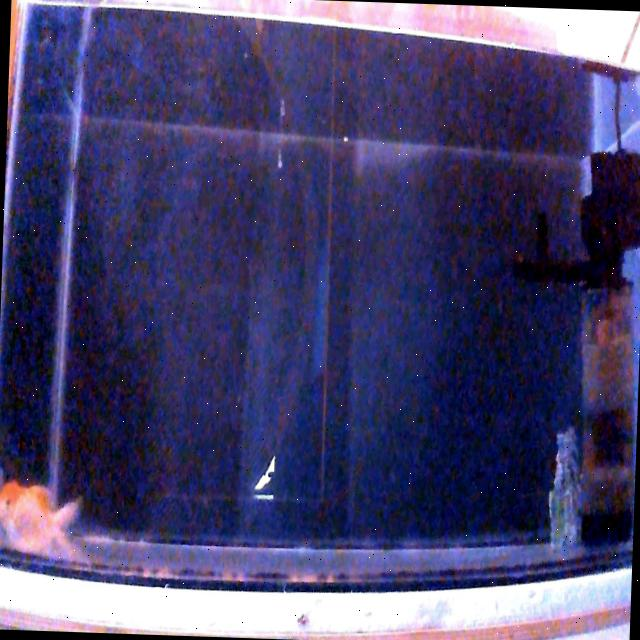fish: (0, 478, 82, 555)
